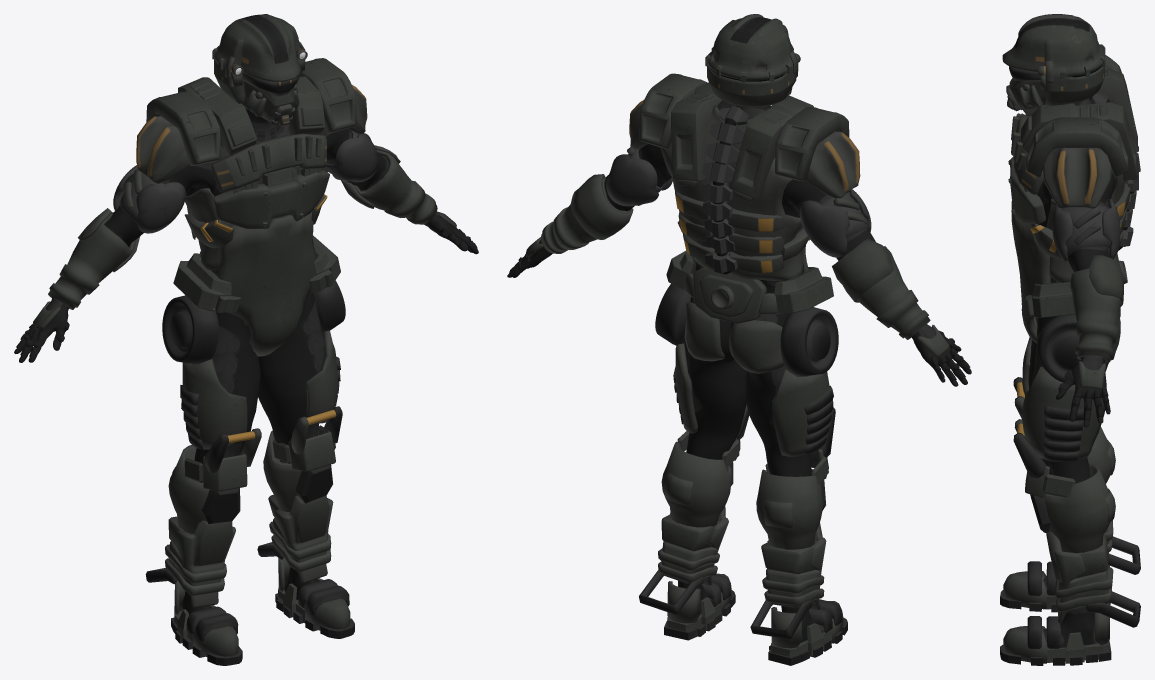
3 views of the same model, side by side, from view 1: azimuth 30°, elevation 25°; view 2: azimuth 150°, elevation 25°; view 3: azimuth 270°, elevation 25° (orthographic).
Visible parts, largest first — view 1: starshiptrooperMesh.002, Cube.016, starshiptrooperMesh, Plane; view 2: Cube.016, starshiptrooperMesh.002, starshiptrooperMesh, Plane; view 3: Cube.016, starshiptrooperMesh.002, Plane, starshiptrooperMesh.
Part boxes in pixels (x1,y1,x2,y2): starshiptrooperMesh.002: (33,58,456,356); Cube.016: (145,235,354,665); starshiptrooperMesh: (14,108,478,631); Plane: (212,14,307,126); Cube.016: (639,251,847,665); starshiptrooperMesh.002: (526,73,949,356); starshiptrooperMesh: (507,100,971,642); Plane: (705,14,800,107); Cube.016: (1000,253,1140,665); starshiptrooperMesh.002: (1008,55,1140,389); Plane: (1002,14,1105,111); starshiptrooperMesh: (1028,98,1115,647).
Bounding box in the file's own units: 1.45 × 1.85 × 0.3885.
Materials: 5 (4 with a texture image).
